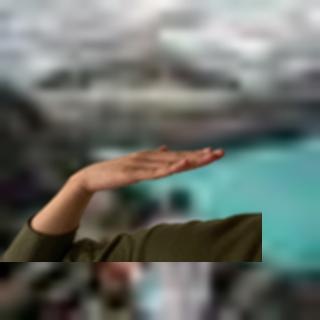WAIT: (74, 138, 228, 196)
